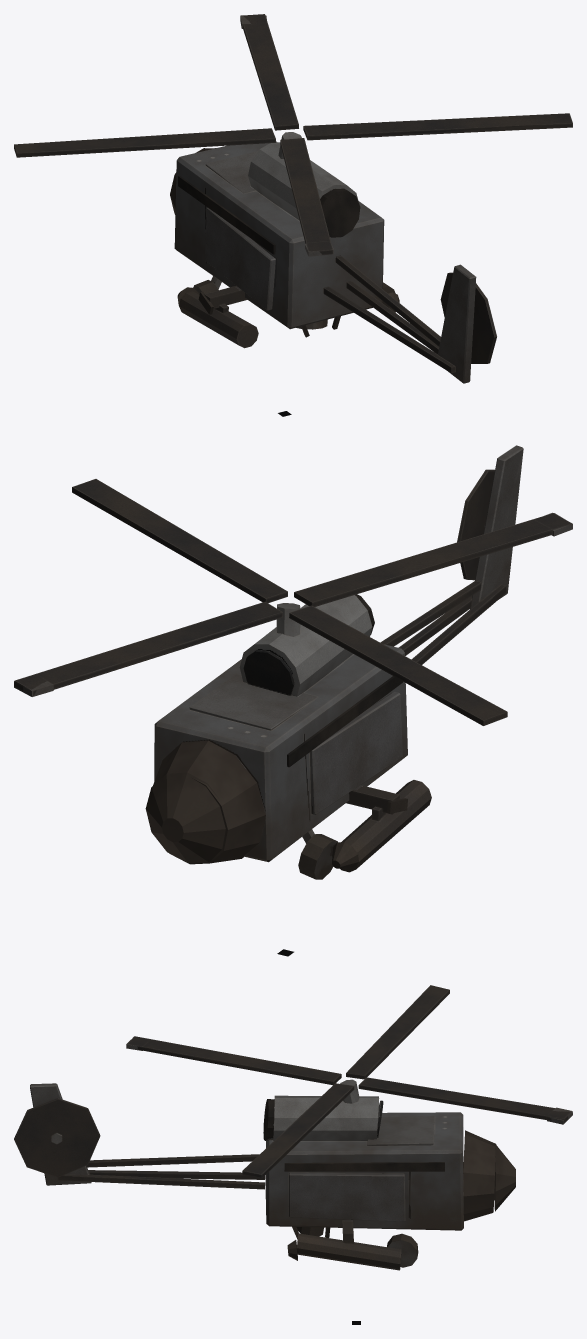
The model's file is chs_leech_wreck.fbx.
The picture shows the model from 3 angles, top to bottom: view 1: azimuth 30°, elevation 25°; view 2: azimuth 150°, elevation 25°; view 3: azimuth 270°, elevation 25°; orthographic projection. The views are drawn at different scales.
Parts seen in each view (by area): view 1: base_bar, rotor_bar, rack_bar, tailRotor_bar; view 2: base_bar, rotor_bar, rack_bar, tailRotor_bar; view 3: base_bar, rotor_bar, tailRotor_bar, rack_bar.
Part boxes in pixels (x1,y1,x2,y2): base_bar: [170, 132, 476, 383]; rotor_bar: [14, 14, 572, 256]; rack_bar: [177, 282, 399, 348]; tailRotor_bar: [440, 272, 496, 363]; base_bar: [145, 445, 523, 879]; rotor_bar: [14, 479, 572, 725]; rack_bar: [332, 780, 431, 872]; tailRotor_bar: [457, 469, 494, 580]; base_bar: [30, 1079, 515, 1267]; rotor_bar: [126, 985, 572, 1178]; tailRotor_bar: [14, 1098, 100, 1177]; rack_bar: [287, 1219, 401, 1270].
Size of the model in its own units: 997 by 601 by 1236.
Materials: 2 (2 with a texture image).
